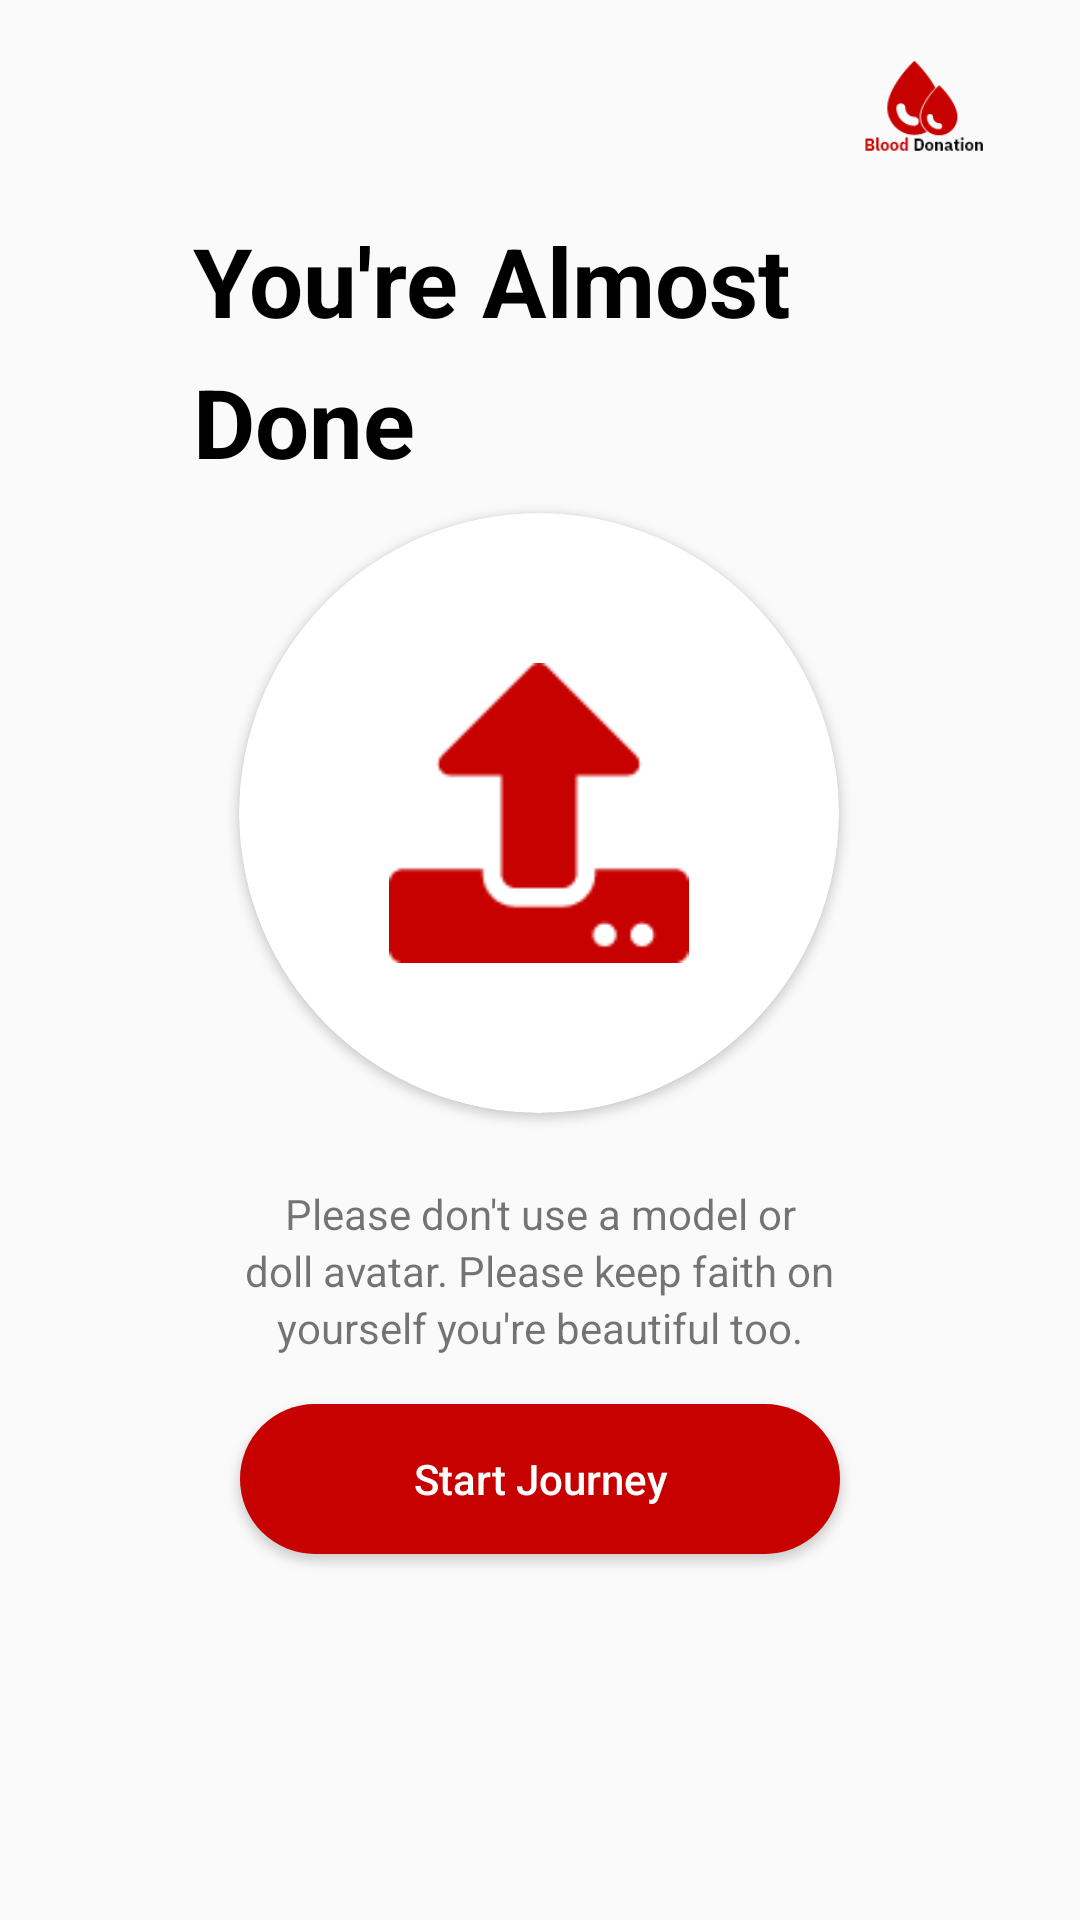

Screen size 1080x1920. Icon name, then its center in pixels as (x,y):
upload: (539,813)
